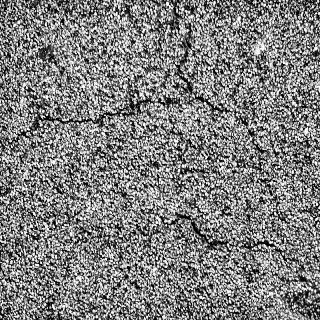crack: (9, 17, 304, 280)
